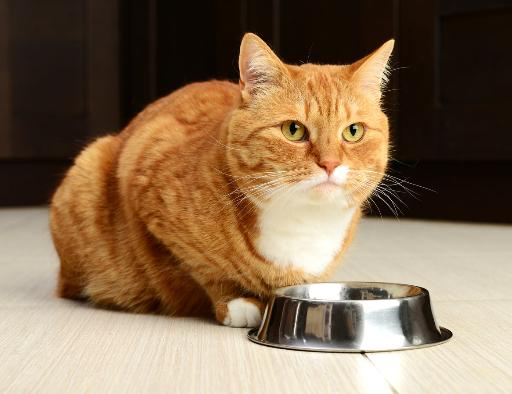cat_eating: (50, 33, 451, 352)
